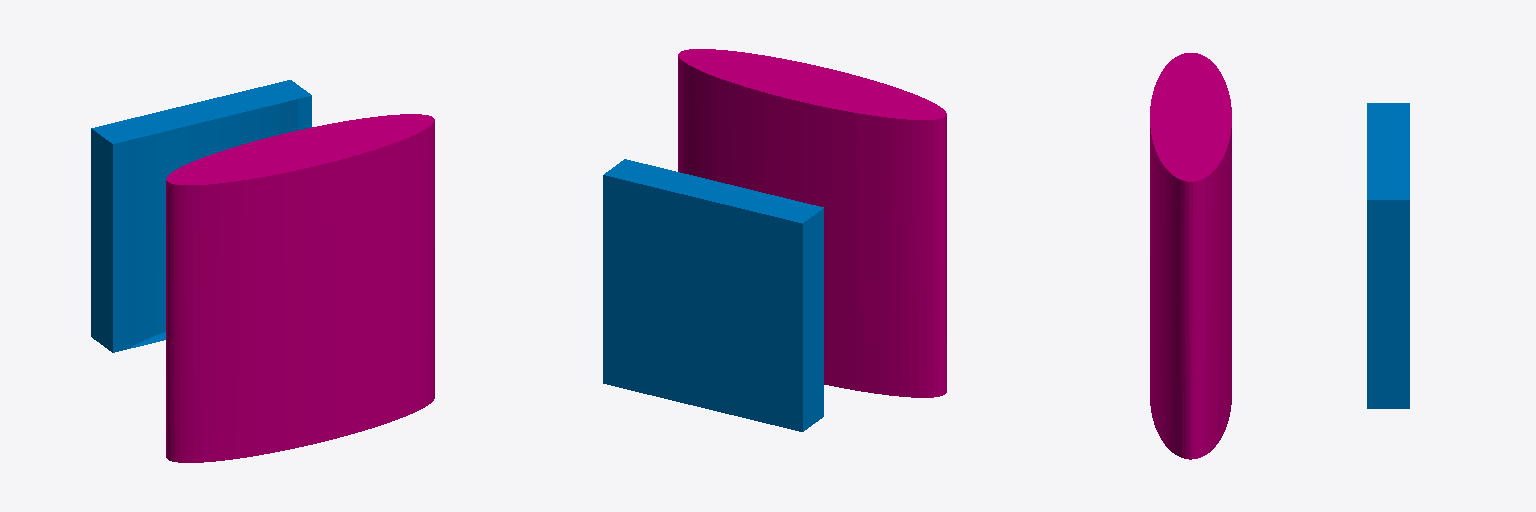
Rendered from fun_lens.obj.
3 renders of one model, left to right at view 1: azimuth 30°, elevation 25°; view 2: azimuth 150°, elevation 25°; view 3: azimuth 270°, elevation 25°, orthographic.
Parts seen in each view (by area): view 1: Cylinder, Cube_Cube.001; view 2: Cylinder, Cube_Cube.001; view 3: Cylinder, Cube_Cube.001.
Part boxes in pixels (bbox=[...]): Cylinder: bbox=[166, 114, 434, 462]; Cube_Cube.001: bbox=[91, 80, 311, 352]; Cylinder: bbox=[678, 49, 946, 397]; Cube_Cube.001: bbox=[603, 159, 823, 431]; Cylinder: bbox=[1150, 53, 1231, 459]; Cube_Cube.001: bbox=[1367, 103, 1409, 408].
Size of the model in its own units: 4.14 by 4.14 by 3.52.